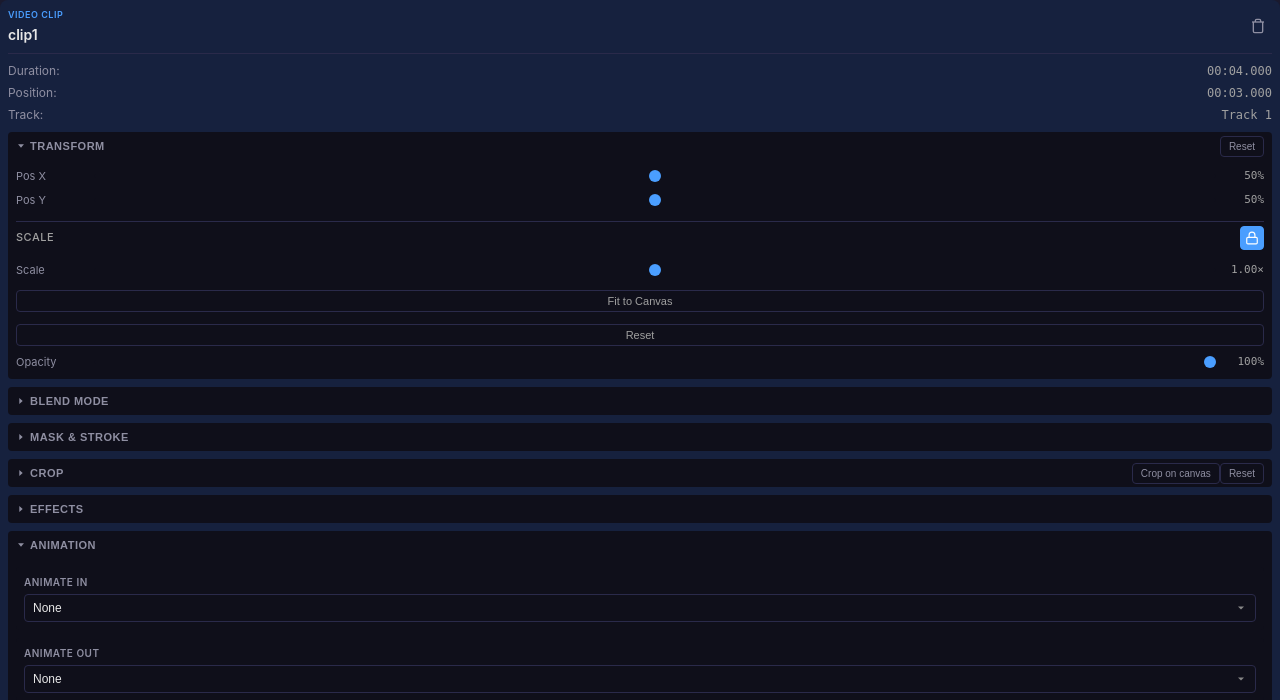
ClipEditor › header and info › collapses a section so its controls go away
expect the text "Pos X" is shown: met, box [16, 168, 46, 182]
Click the button "Transform": [67, 146] box [8, 132, 1216, 160]
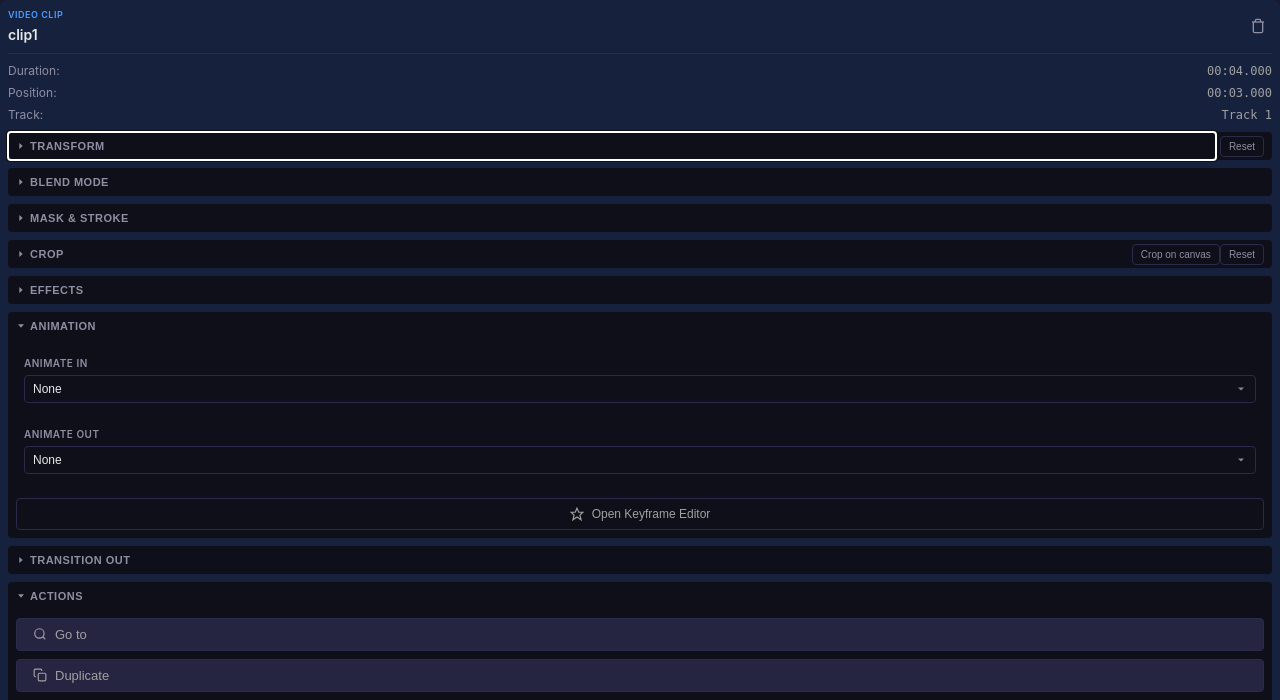
expect the text "Pos X" is gone: met
